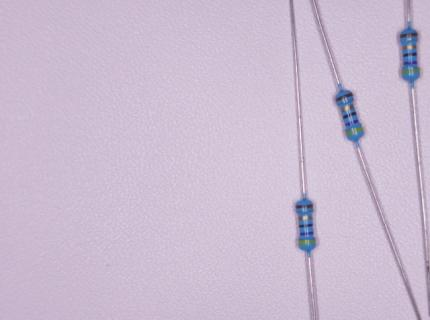Black band: (343, 111, 357, 119), (402, 52, 417, 57), (299, 224, 313, 228)
Brown band: (335, 92, 353, 102), (400, 32, 418, 38), (295, 204, 313, 209)
Gold band: (339, 104, 355, 113), (299, 216, 313, 221), (402, 45, 416, 50)
Violet band: (345, 119, 359, 127), (299, 232, 314, 236), (403, 62, 418, 65)
Yellow band: (345, 127, 364, 136), (401, 69, 420, 75), (299, 240, 316, 245)
